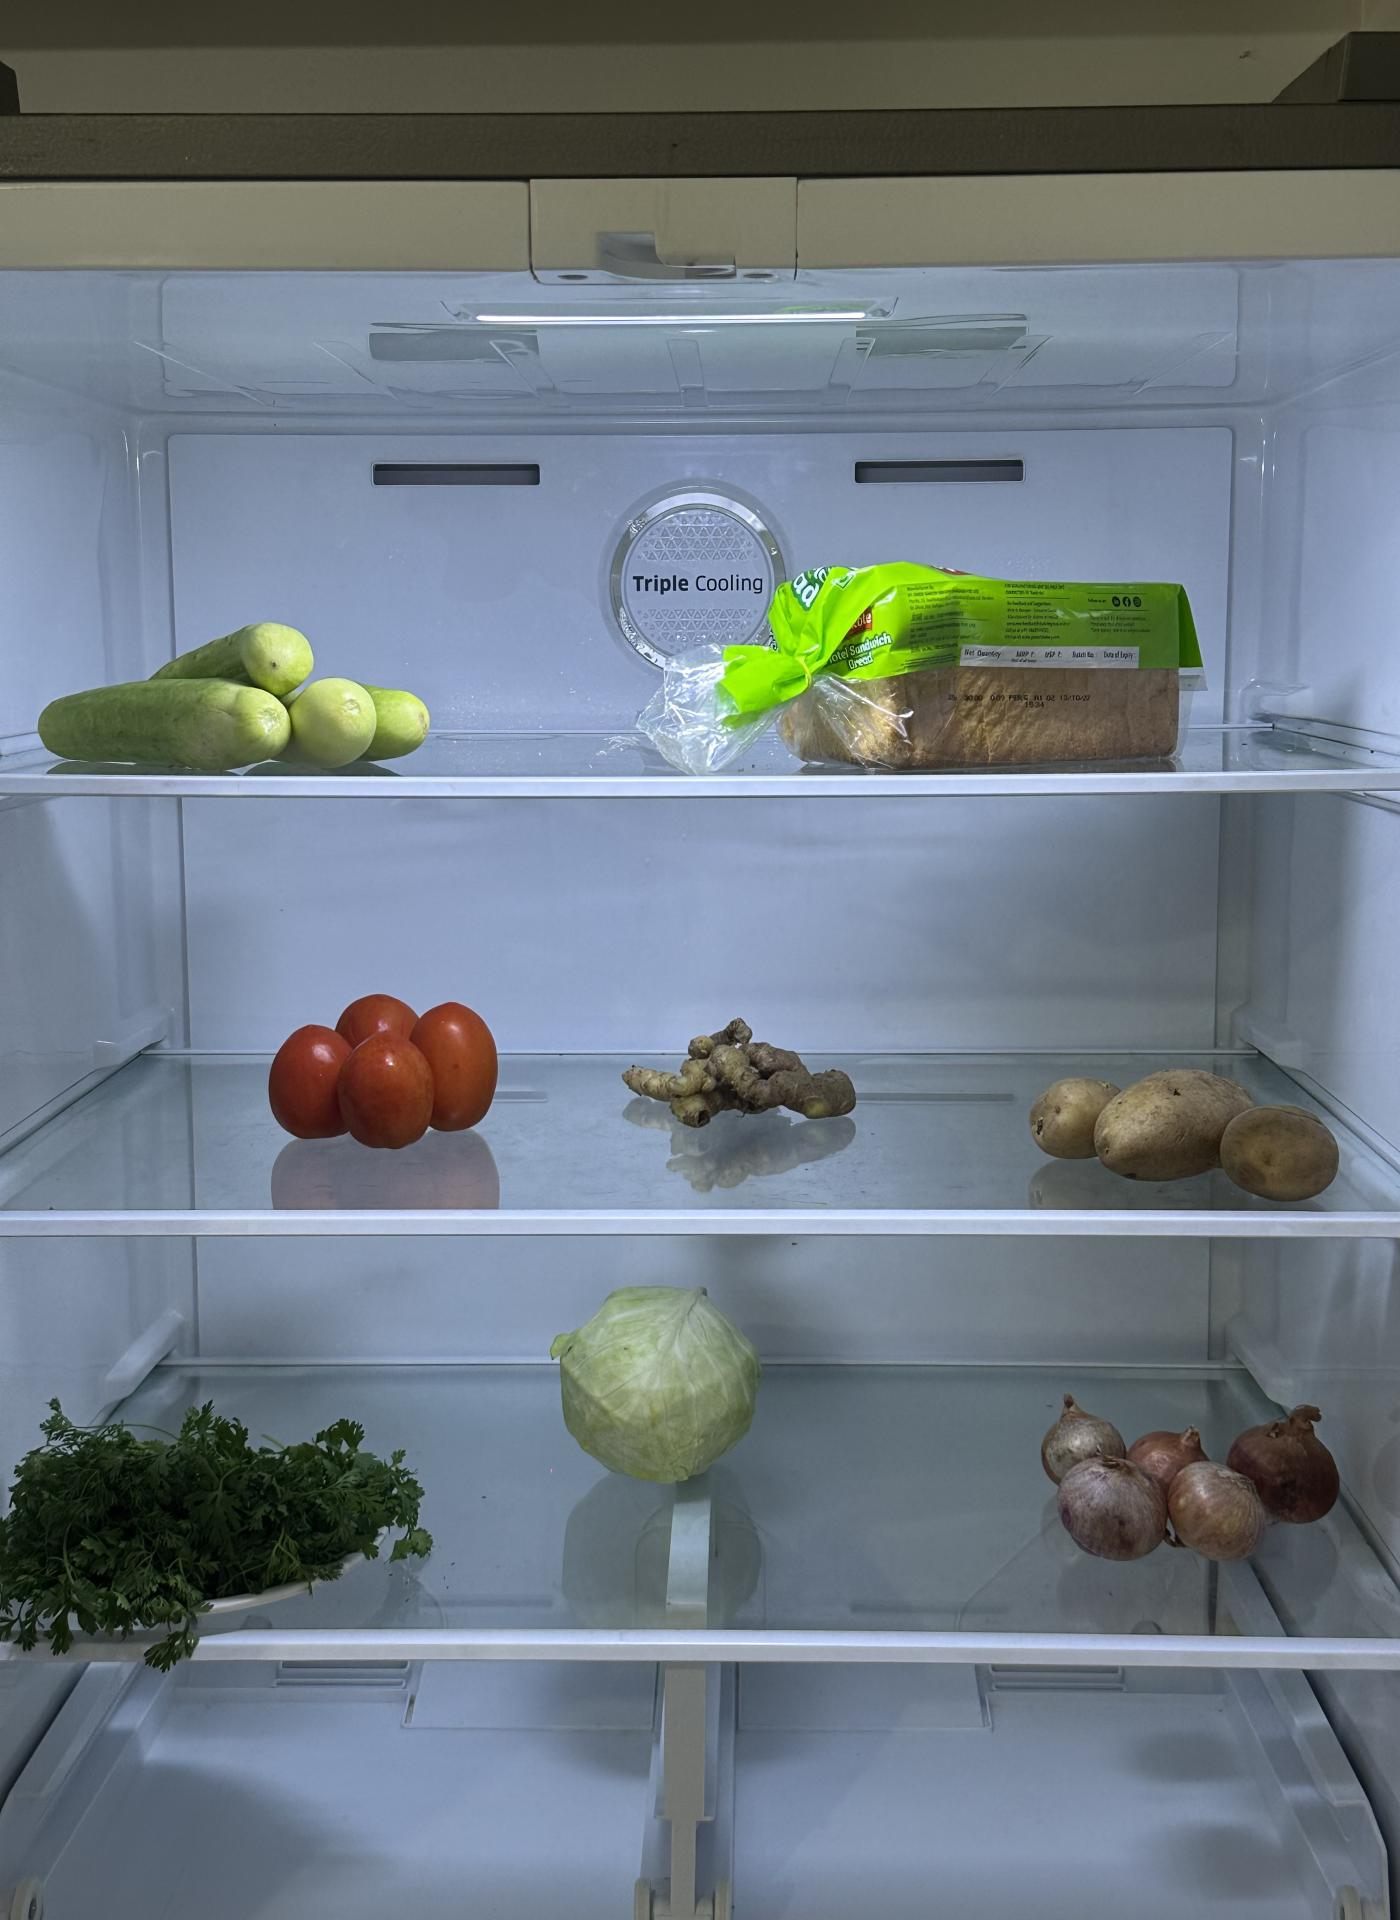bread: (774, 555, 1211, 771)
cabbage: (559, 1278, 766, 1477)
coriander: (0, 1409, 423, 1631)
cucumber: (25, 626, 423, 793)
ginger: (622, 1012, 857, 1128)
onion: (1044, 1383, 1348, 1567)
potato: (1027, 1054, 1343, 1200)
tomato: (262, 988, 501, 1152)
